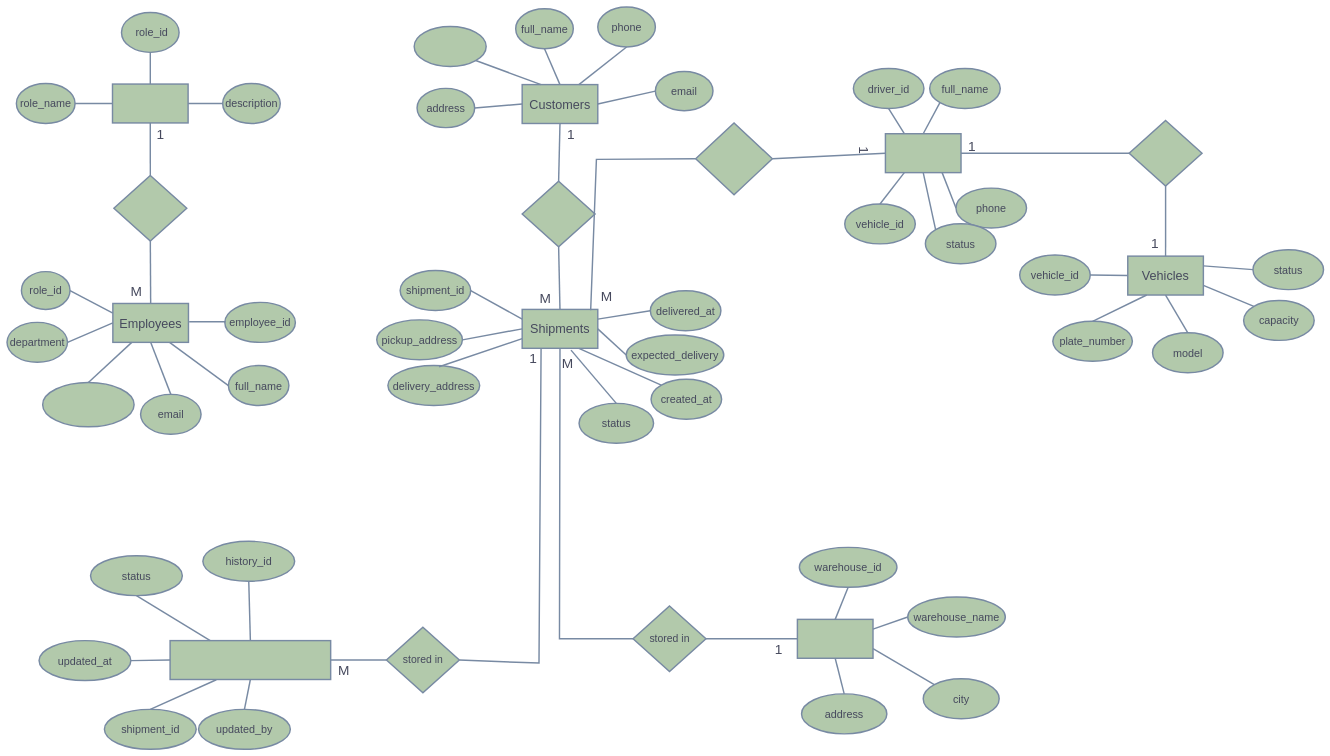
The diagram is 1330 pixels wide and 756 high, and some of its shapes have lost their labels. Here are the shapes that lost their labels. From the top down, the centre of each, then its label:
At point 450,46: "customer_id".
At point 150,103: "Roles".
At point 734,158: "assigned".
At point 923,153: "Drivers".
At point 1165,153: "uses".
At point 150,208: "defines".
At point 558,213: "Book".
At point 88,404: "password_hash".
At point 835,638: "Warehouses".
At point 250,660: "Shipment_Status_History".
